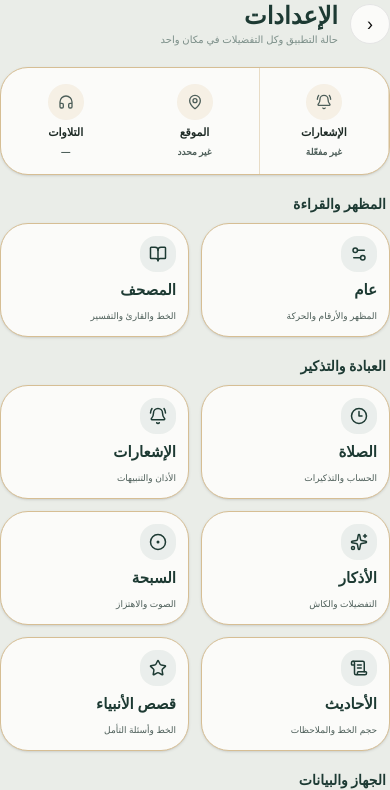
Test: SettingsView smoke coverage › opens the general category and exposes an appearance control
What coordinates should you click on to do the following:
click the button "عام المظهر والأرقام والحركة"
I would click on:
 (296, 280)
Its box is [201,223,389,337].
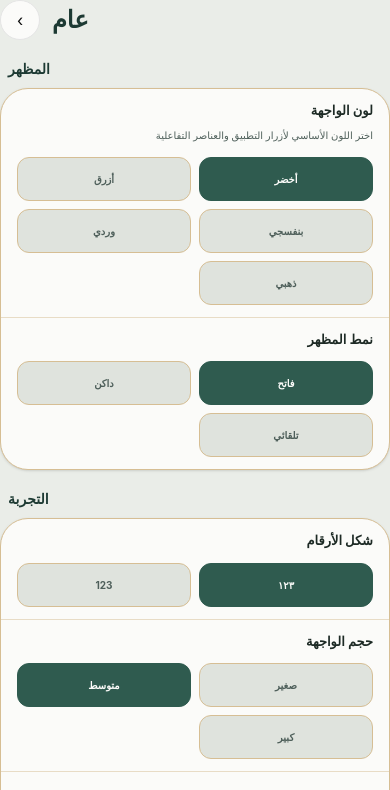
Now the text "عام" is shown, box [52,4,88,36]
Now the button "داكن" is shown, box [17,361,191,405]
